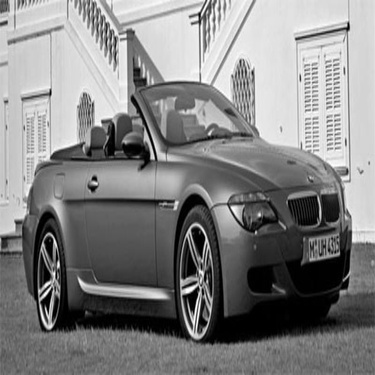car: (15, 76, 363, 348)
